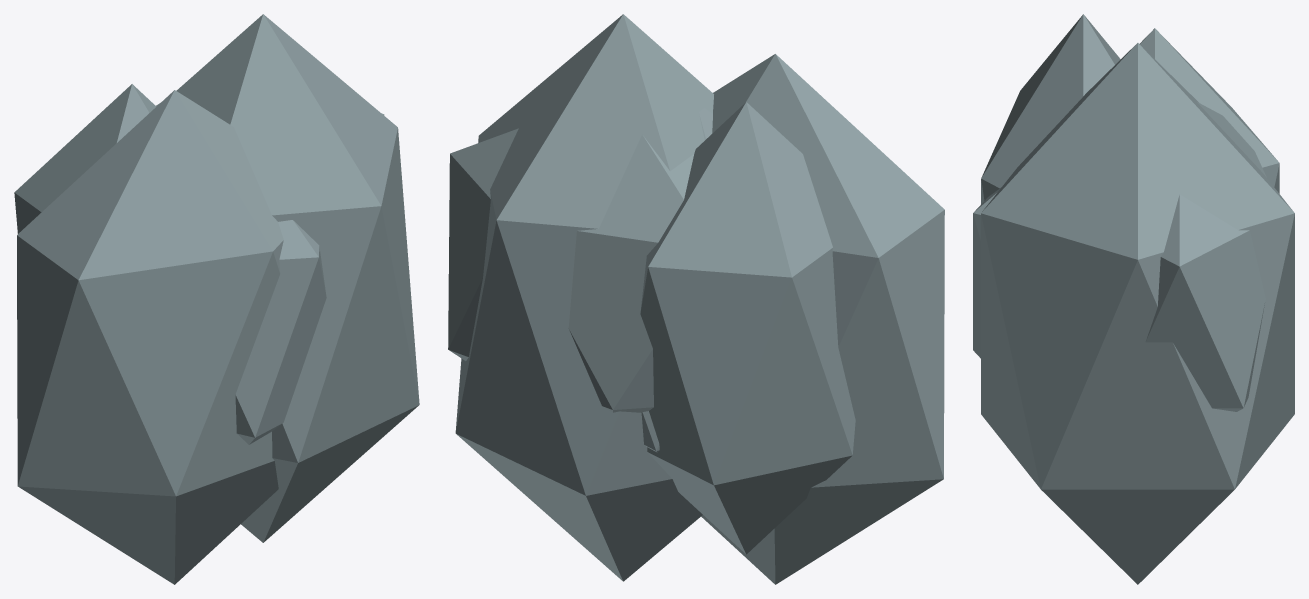
The model's file is coast_rocks.glb.
The picture shows the model from 3 angles, left to right: view 1: azimuth 30°, elevation 25°; view 2: azimuth 150°, elevation 25°; view 3: azimuth 270°, elevation 25°; orthographic projection. The views are drawn at different scales.
Visible parts, largest first — view 1: Icosphere.004, Icosphere.003, Icosphere.001, Icosphere; view 2: Icosphere.003, Icosphere, Icosphere.004, Icosphere.002, Icosphere.001; view 3: Icosphere.003, Icosphere.002, Icosphere.004, Icosphere, Icosphere.001.
Boxes of the visible parts, <box> form: Icosphere.004: <box>17,90,283,584</box>; Icosphere.003: <box>176,14,419,542</box>; Icosphere.001: <box>235,220,326,444</box>; Icosphere: <box>14,84,156,233</box>; Icosphere.003: <box>455,14,713,581</box>; Icosphere: <box>640,102,855,554</box>; Icosphere.004: <box>701,54,944,584</box>; Icosphere.002: <box>448,128,693,412</box>; Icosphere.001: <box>641,108,712,452</box>; Icosphere.003: <box>981,43,1294,584</box>; Icosphere.002: <box>1145,102,1266,411</box>; Icosphere.004: <box>981,14,1120,203</box>; Icosphere: <box>1140,28,1279,193</box>; Icosphere.001: <box>973,187,1001,358</box>.
Bounding box in the file's own units: 74.51 × 91.13 × 49.01.
